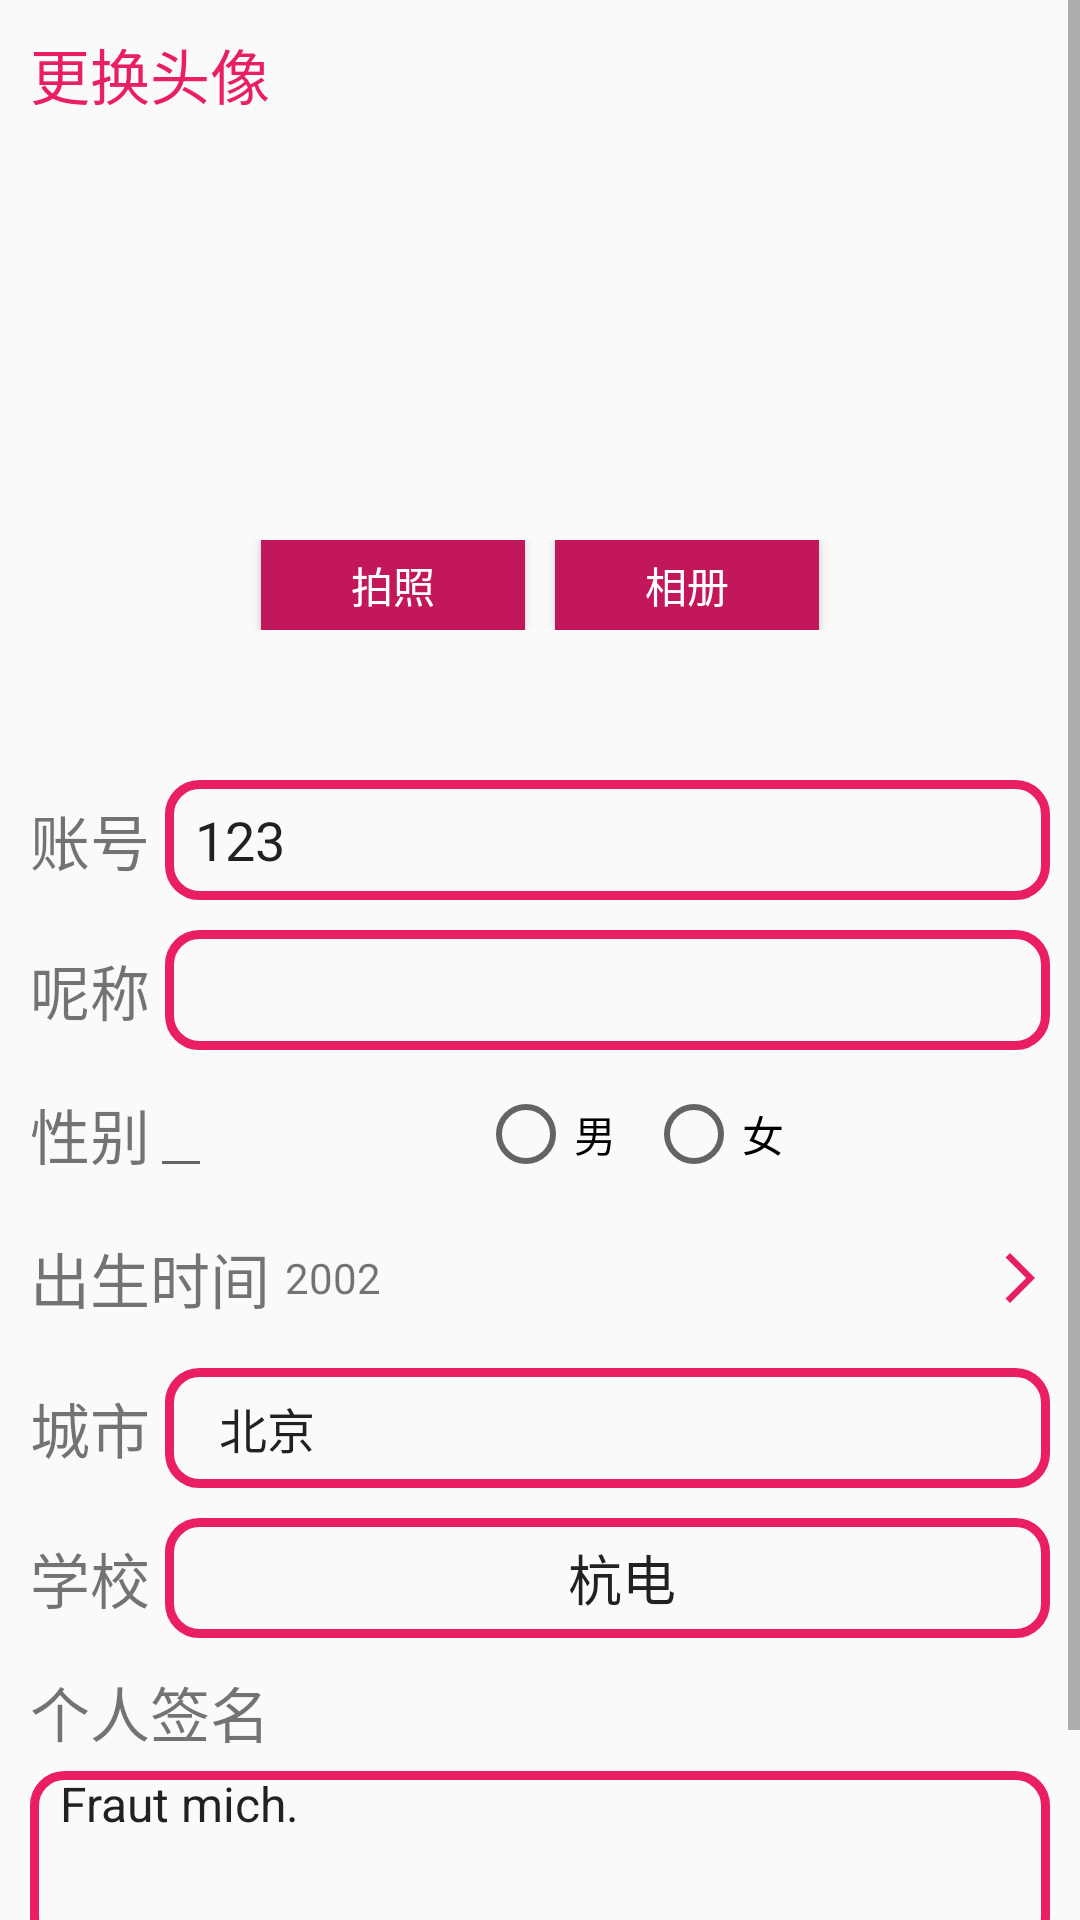

Icon click points for this 1080x1920 phone screenshot, format (x,y):
arrow forward: (1020,1278)
